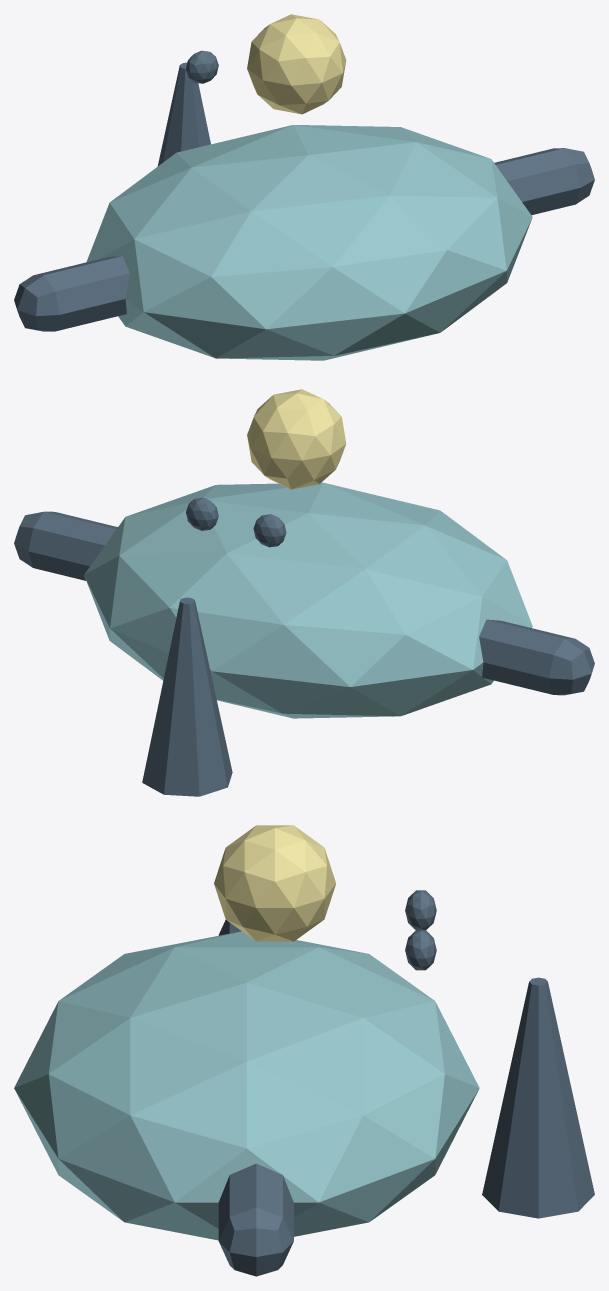
The model's file is bronzor.glb.
3 views of the same model, one above another, from view 1: azimuth 30°, elevation 25°; view 2: azimuth 150°, elevation 25°; view 3: azimuth 270°, elevation 25° (orthographic). The views are drawn at different scales.
Visible parts, largest first — view 1: body, eye, armL, armR, antenna, eye.001; view 2: body, antenna, eye, armL, armR, eye.001, eye.002; view 3: body, antenna, eye, armR, eye.001, eye.002.
Part boxes in pixels (x1,y1,x2,y2): body: [86, 125, 532, 360]; eye: [247, 14, 346, 114]; armL: [14, 256, 129, 331]; armR: [494, 148, 594, 215]; antenna: [157, 62, 210, 166]; eye.001: [186, 50, 218, 83]; body: [84, 482, 532, 718]; antenna: [142, 597, 232, 796]; eye: [247, 389, 346, 489]; armL: [479, 619, 594, 695]; armR: [14, 511, 117, 580]; eye.001: [253, 514, 286, 547]; eye.002: [186, 498, 218, 530]; body: [14, 931, 479, 1240]; antenna: [482, 977, 594, 1218]; eye: [214, 825, 335, 941]; armR: [218, 1163, 293, 1276]; eye.001: [405, 890, 436, 930]; eye.002: [405, 930, 436, 970].
Bounding box in the file's own units: 1.7 × 0.86 × 1.23.
